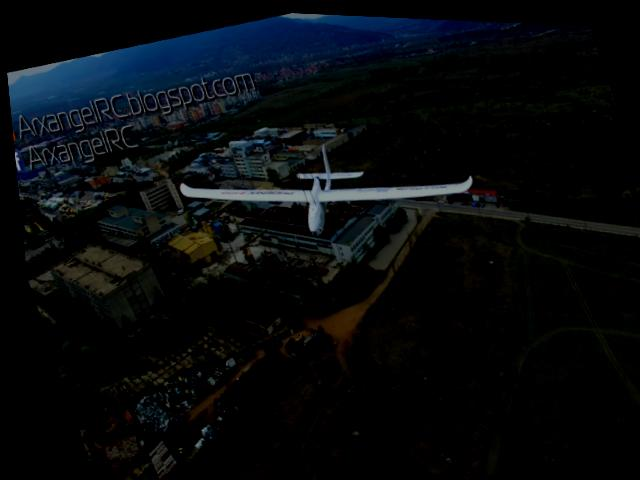plane: (163, 101, 482, 267)
